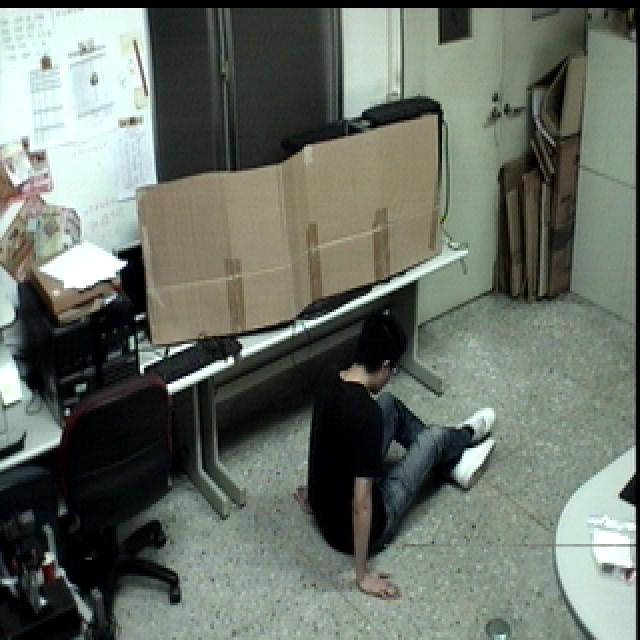sit: (287, 308, 502, 598)
